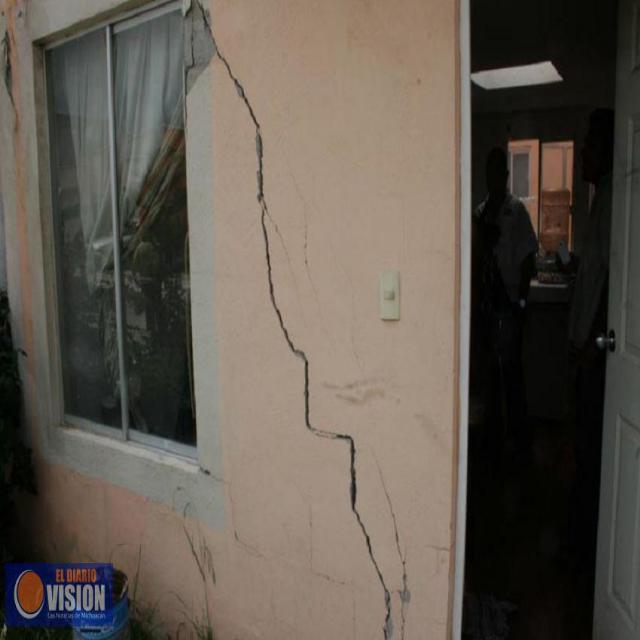crack: (213, 49, 393, 636), (370, 448, 410, 638)
